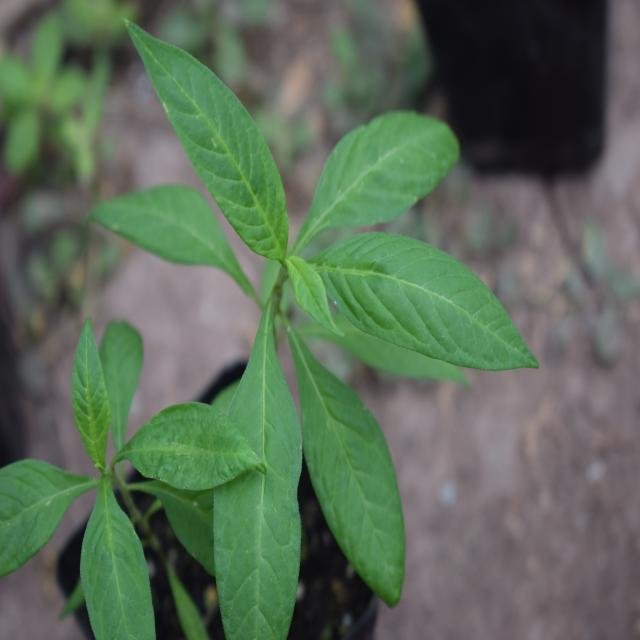white_smart_weed: (165, 47, 501, 616), (0, 348, 243, 640)
